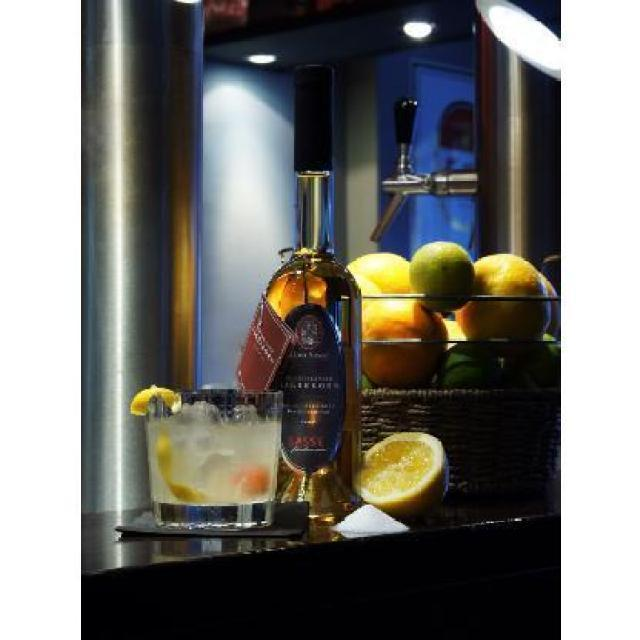Lemon: (343, 250, 549, 390), (353, 433, 444, 515), (152, 428, 208, 504), (127, 386, 181, 414)
